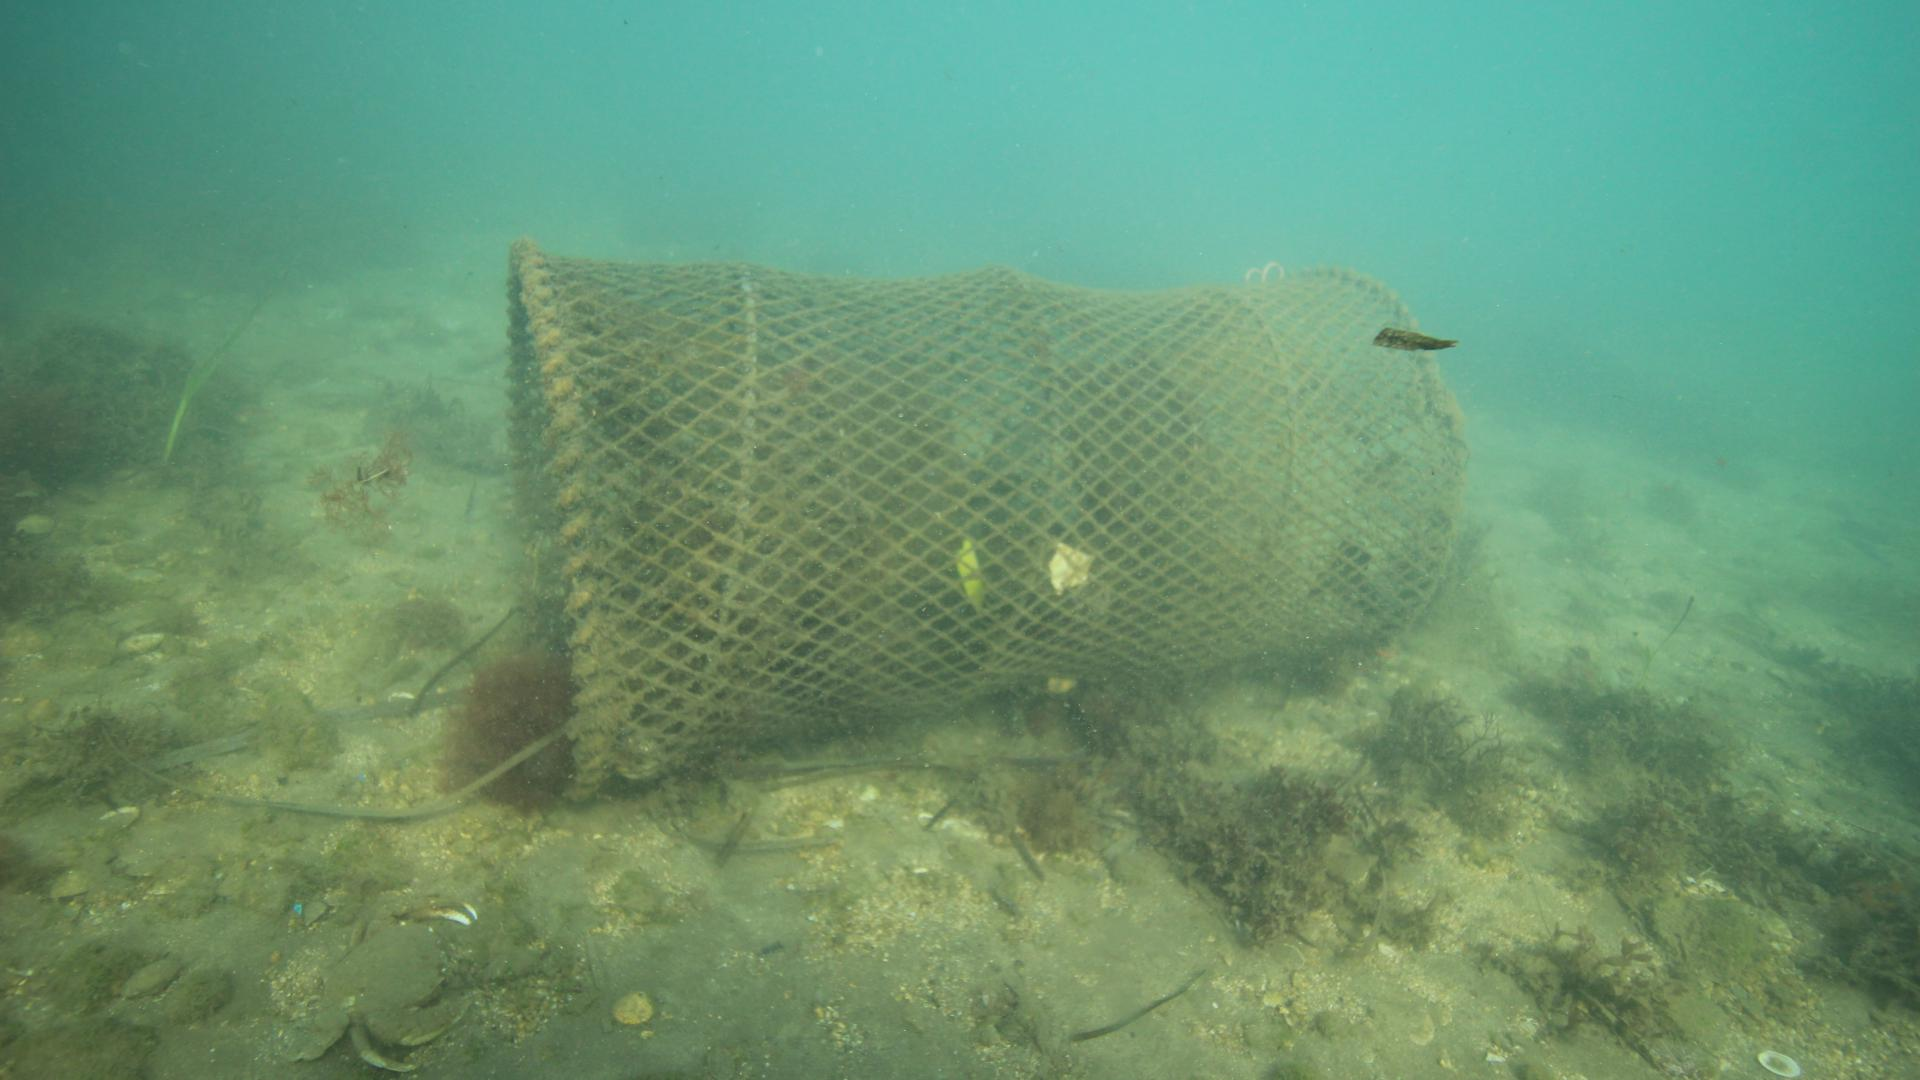spring fish trap: (502, 233, 1470, 807)
